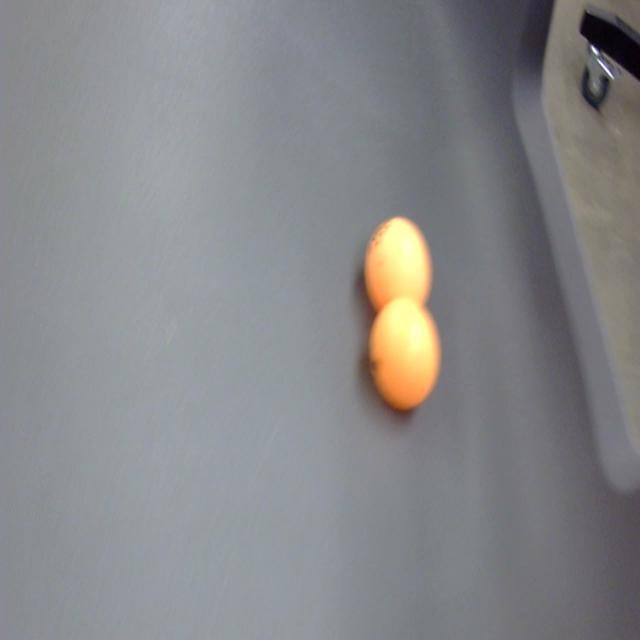ball: (366, 295, 442, 413), (366, 215, 434, 316)
